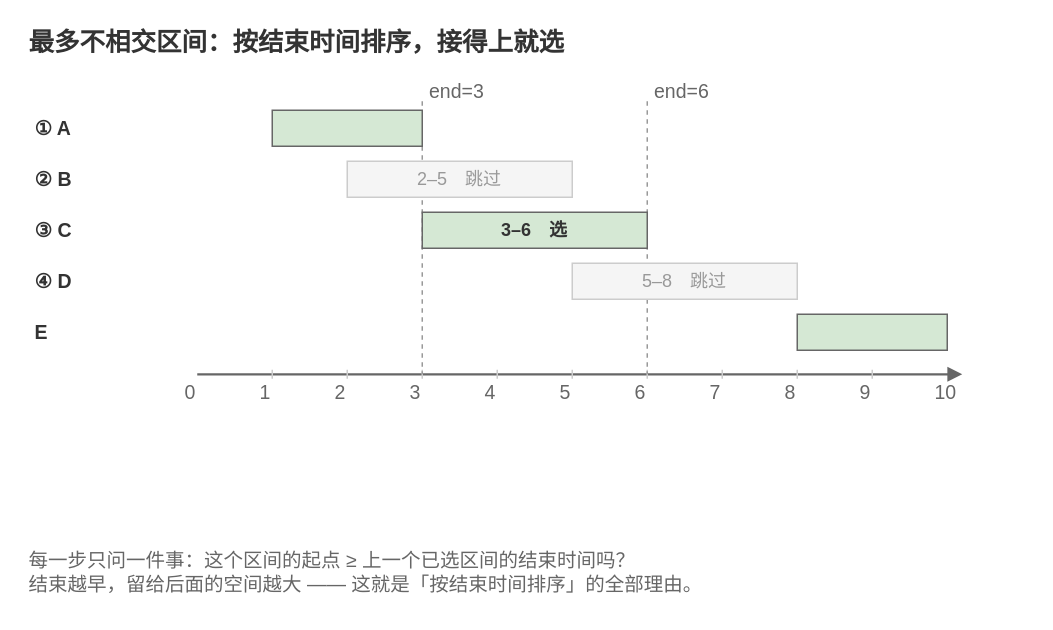
This 1053x630 diagram has some shape labels left out. Here are the shapes that lost their labels. From the top down, the box of each, then its label:
(271, 109, 422, 146): 1–3 选
(796, 313, 947, 350): 8–10 选
